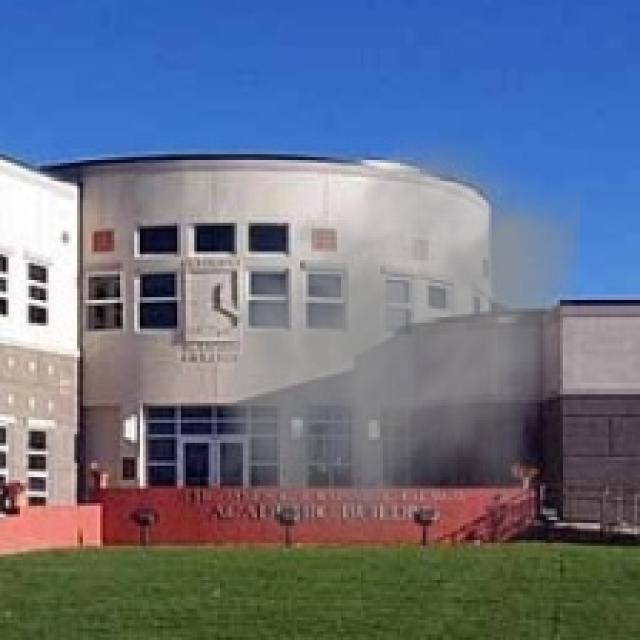smoke: (214, 126, 580, 540)
